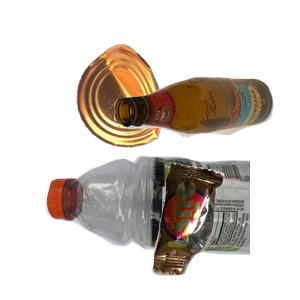glass: (111, 74, 300, 204)
metal: (74, 41, 229, 181)
plastic: (43, 152, 283, 300)
trash: (150, 160, 300, 300)
